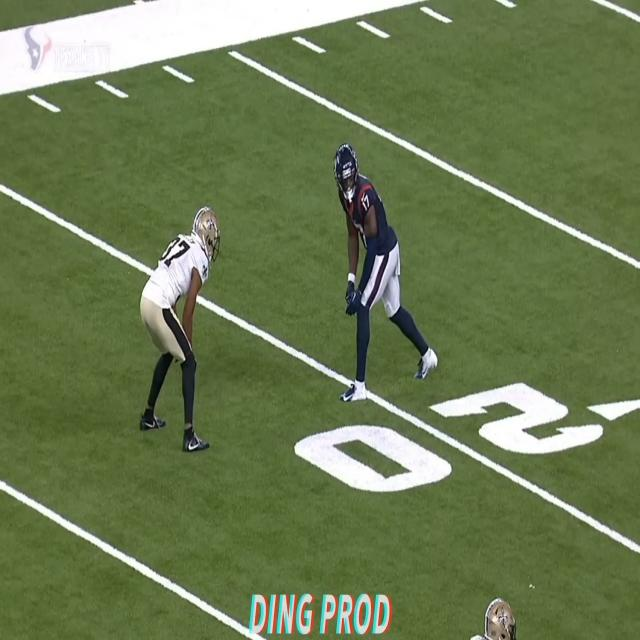players: (126, 203, 225, 451), (334, 150, 430, 394), (464, 596, 536, 638)
